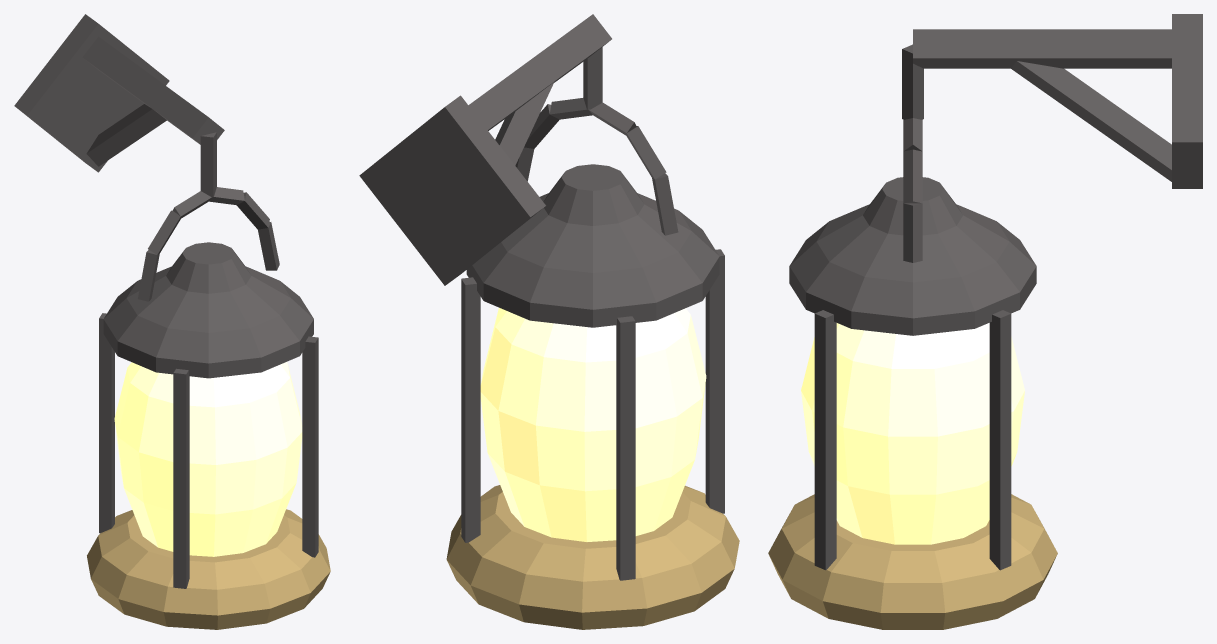
File: lamp-oil-wall.glb
The picture shows the model from 3 angles, left to right: view 1: azimuth 30°, elevation 25°; view 2: azimuth 150°, elevation 25°; view 3: azimuth 270°, elevation 25°; orthographic projection. The views are drawn at different scales.
Visible parts, largest first — view 1: lamp-oil-wall; view 2: lamp-oil-wall; view 3: lamp-oil-wall.
Part boxes in pixels (x1=…): lamp-oil-wall: x1=14, y1=14, x2=330, y2=629; lamp-oil-wall: x1=359, y1=14, x2=739, y2=629; lamp-oil-wall: x1=768, y1=14, x2=1202, y2=629.
Bounding box in the file's own units: 0.1462 × 0.32 × 0.225.
